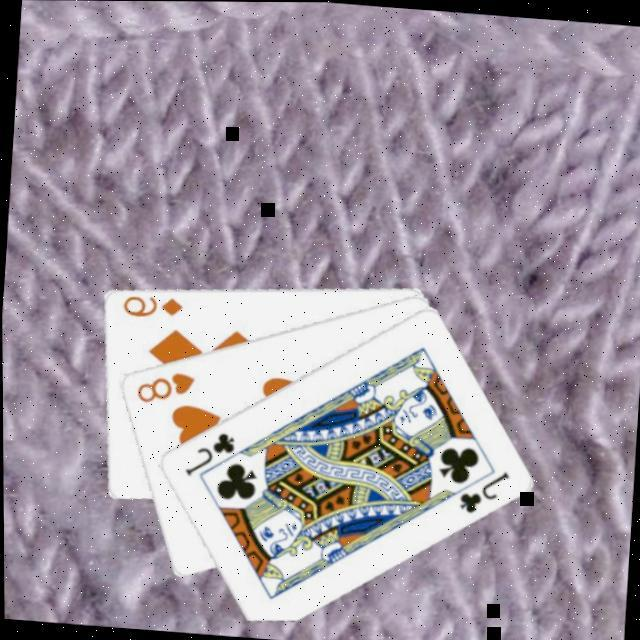8H: (130, 367, 196, 409)
9D: (116, 292, 184, 323)
JC: (451, 464, 510, 520), (179, 427, 236, 483)
